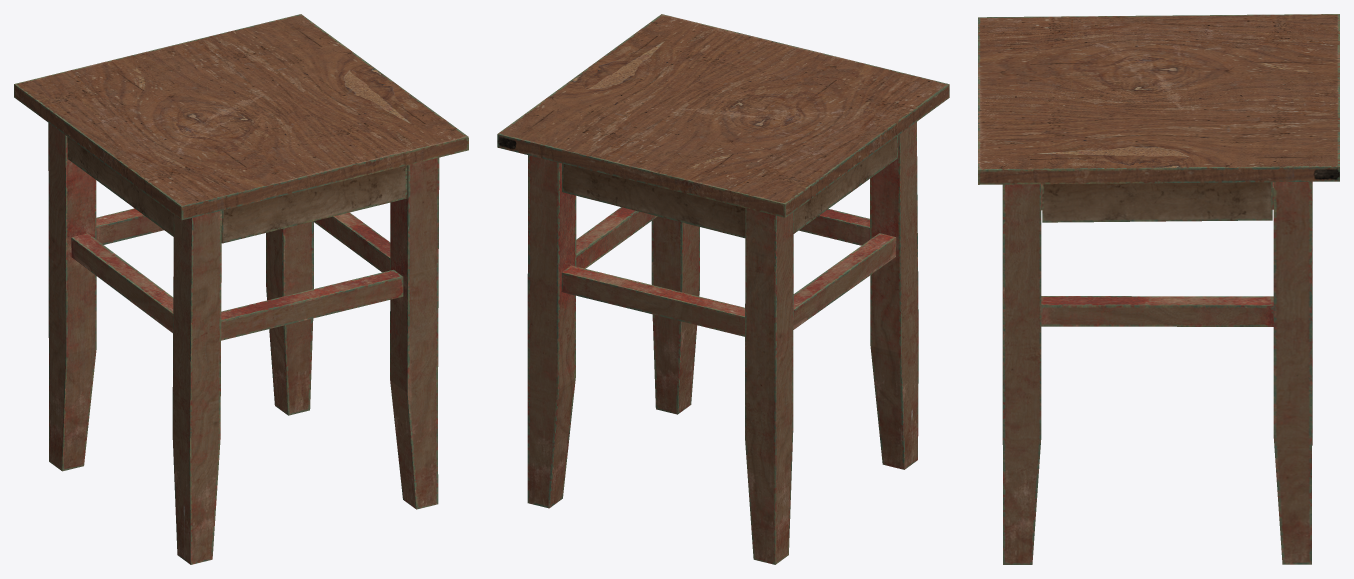
The model's file is stool.glb.
3 renders of one model, left to right at view 1: azimuth 30°, elevation 25°; view 2: azimuth 150°, elevation 25°; view 3: azimuth 270°, elevation 25°, orthographic. The views are drawn at different scales.
Visible parts, largest first — view 1: Stool_LP; view 2: Stool_LP; view 3: Stool_LP.
Part boxes in pixels (bbox=[...]): Stool_LP: bbox=[14, 14, 468, 564]; Stool_LP: bbox=[497, 14, 949, 564]; Stool_LP: bbox=[978, 14, 1339, 564].
Size of the model in its own units: 4.18 by 5.17 by 4.15.
1 material, 1 textured.
